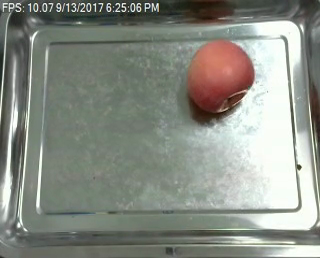Apple: (184, 36, 255, 115)
